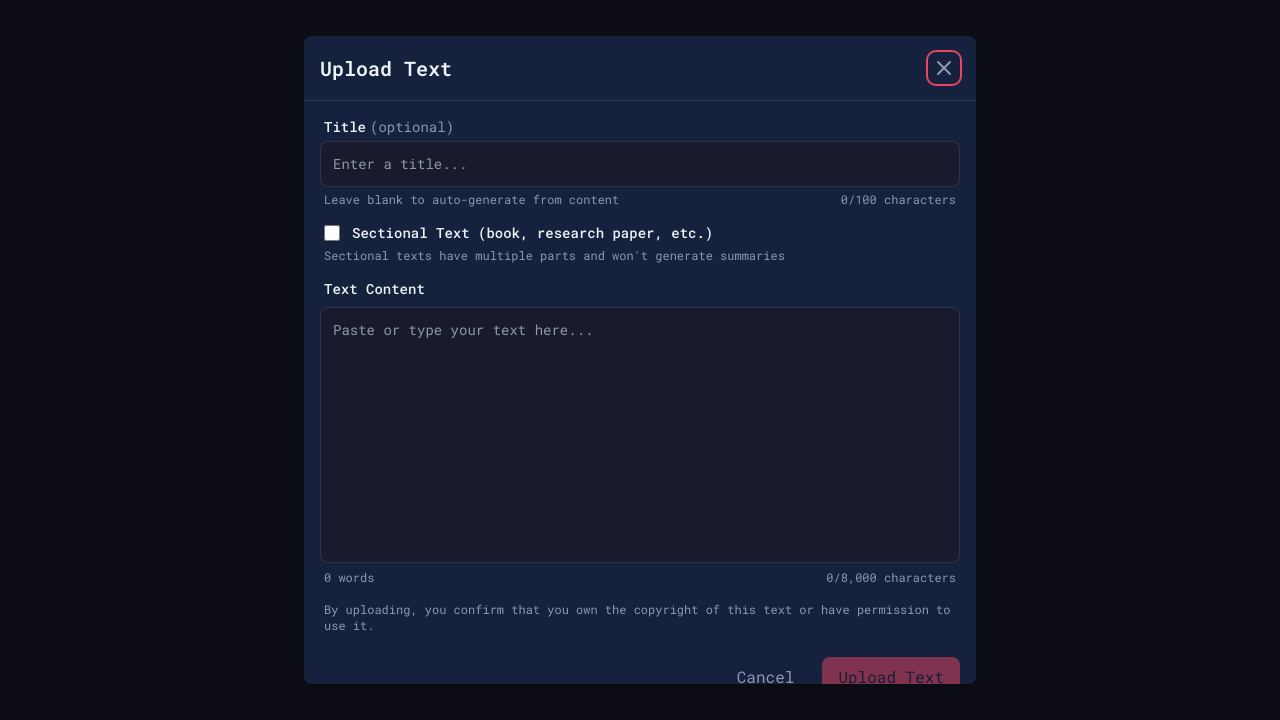
Test: TextFormModal › common functionality › should enable submit button when text is entered
In the text box labelled "Text Content": (640, 435) x1=320 y1=307 x2=960 y2=563, type "Some text content"
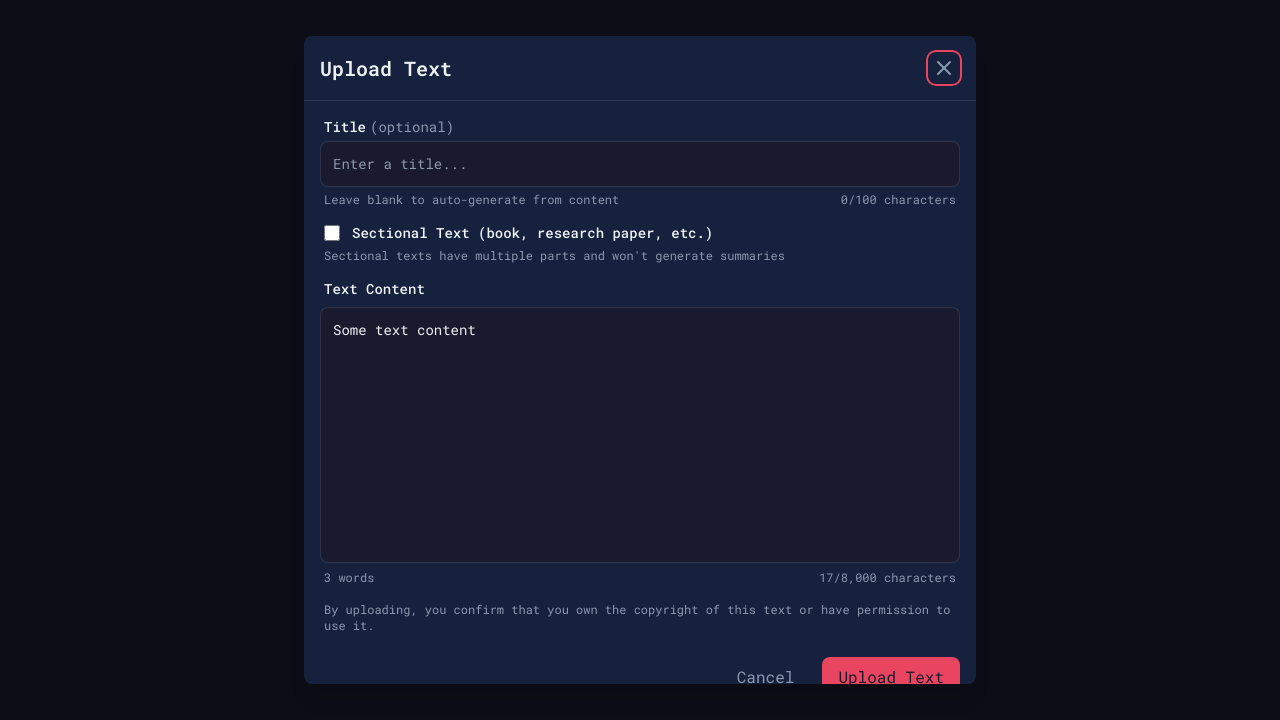
Expected: the button "Upload Text" is enabled, x1=822 y1=657 x2=960 y2=684
